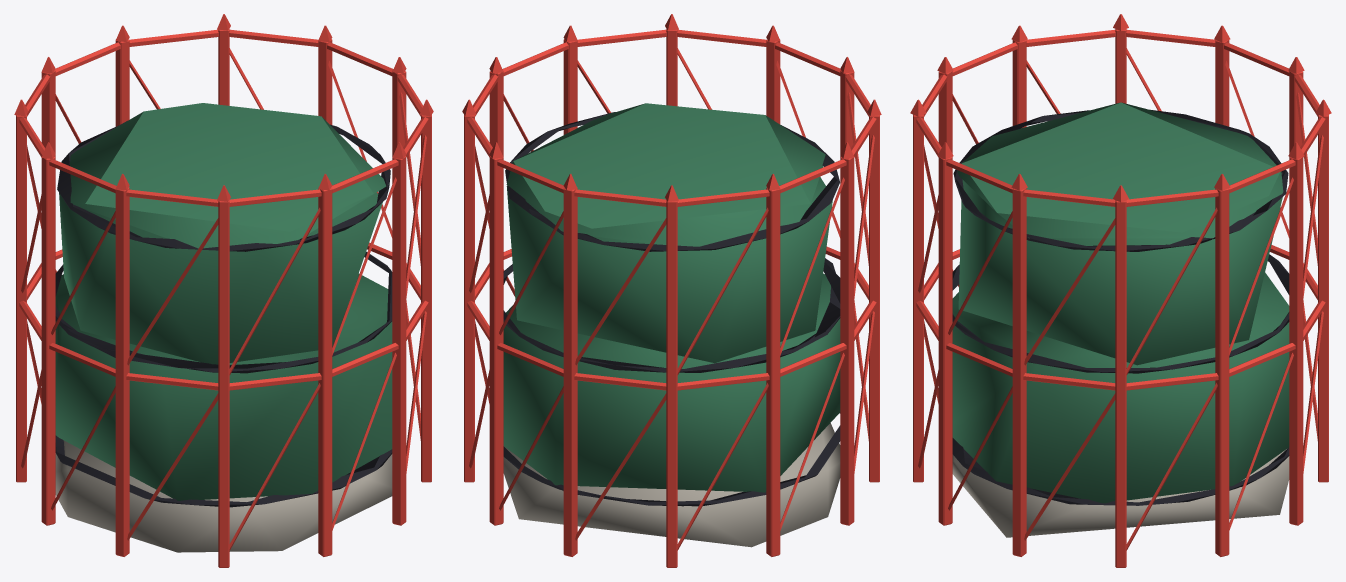
The model's file is gasholder.glb.
3 views of the same model, side by side, from view 1: azimuth 30°, elevation 25°; view 2: azimuth 150°, elevation 25°; view 3: azimuth 270°, elevation 25° (orthographic).
Visible parts, largest first — view 1: gasholder; view 2: gasholder; view 3: gasholder.
Part boxes in pixels (bbox=[...]): gasholder: bbox=[14, 14, 433, 567]; gasholder: bbox=[462, 14, 881, 567]; gasholder: bbox=[910, 14, 1331, 567].
Size of the model in its own units: 22.9 by 22.8 by 22.9.
Materials: 1 (1 with a texture image).
